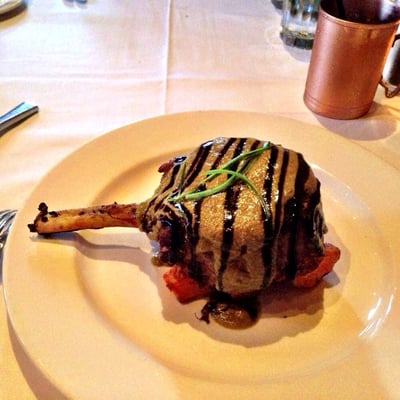pizza: (303, 0, 400, 120)
soup: (138, 136, 341, 333)
